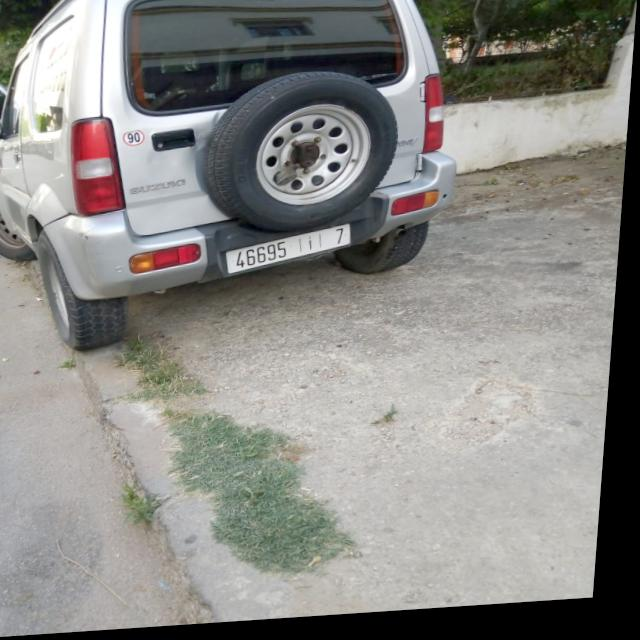License-Plate: (229, 230, 354, 277)
